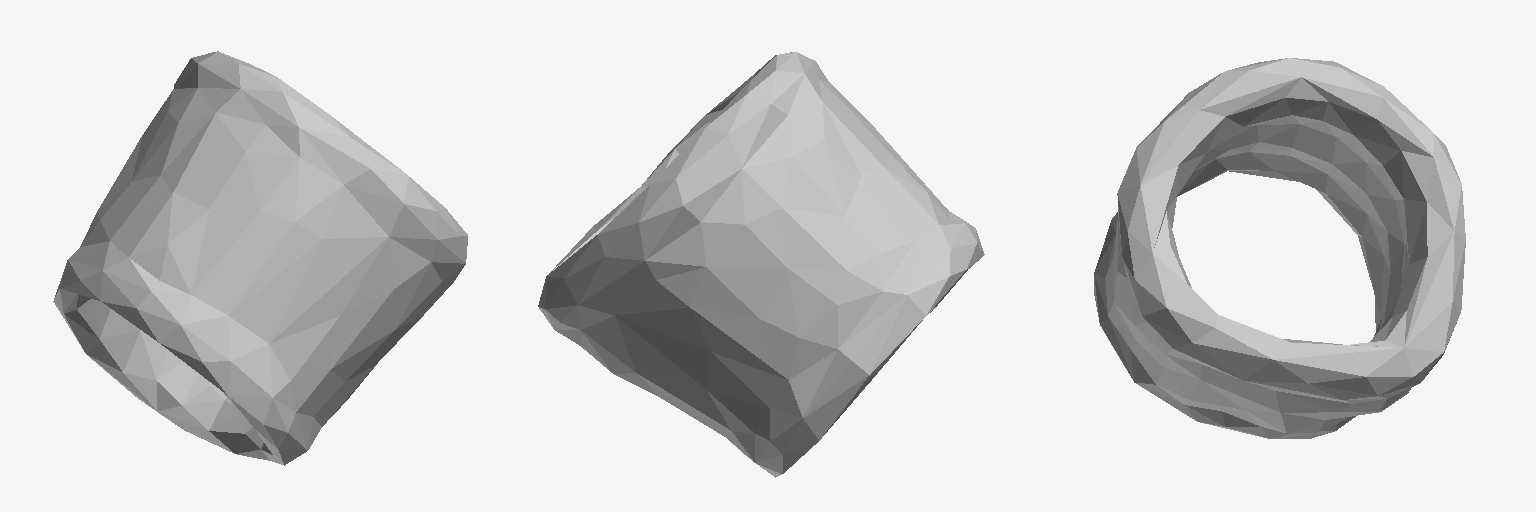
The model's file is Arm band.OBJ.
3 renders of one model, left to right at view 1: azimuth 30°, elevation 25°; view 2: azimuth 150°, elevation 25°; view 3: azimuth 270°, elevation 25°, orthographic.
Parts seen in each view (by area): view 1: Group4024; view 2: Group4024; view 3: Group4024.
Boxes of the visible parts, x1,y1,x2,y2 form: Group4024: [53, 51, 467, 465]; Group4024: [538, 52, 984, 477]; Group4024: [1094, 58, 1465, 438].
Bounding box in the file's own units: 17.56 × 18.05 × 15.84.